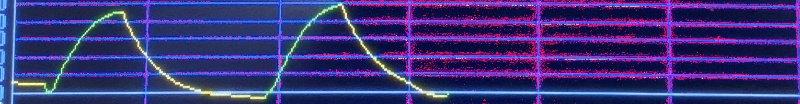normal_volume: (11, 2, 455, 104)
